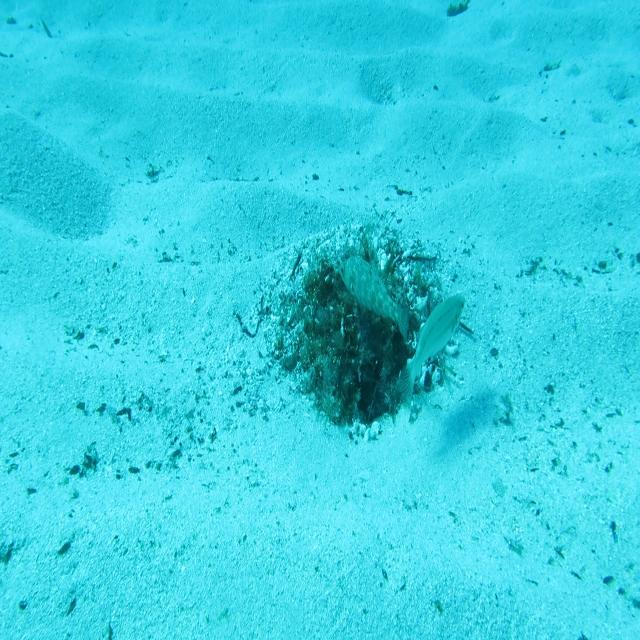INSF: (337, 251, 413, 347)
core_nest: (331, 284, 382, 332)
female: (396, 289, 468, 416)
nest: (255, 205, 474, 453)
vegetation: (446, 0, 469, 20)
